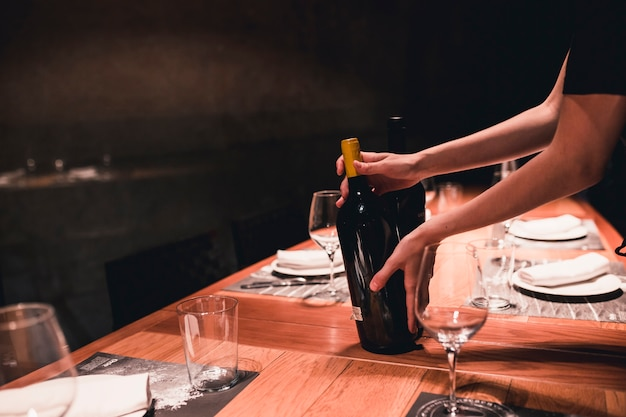alcohol: (334, 137, 427, 356), (376, 114, 433, 283)
